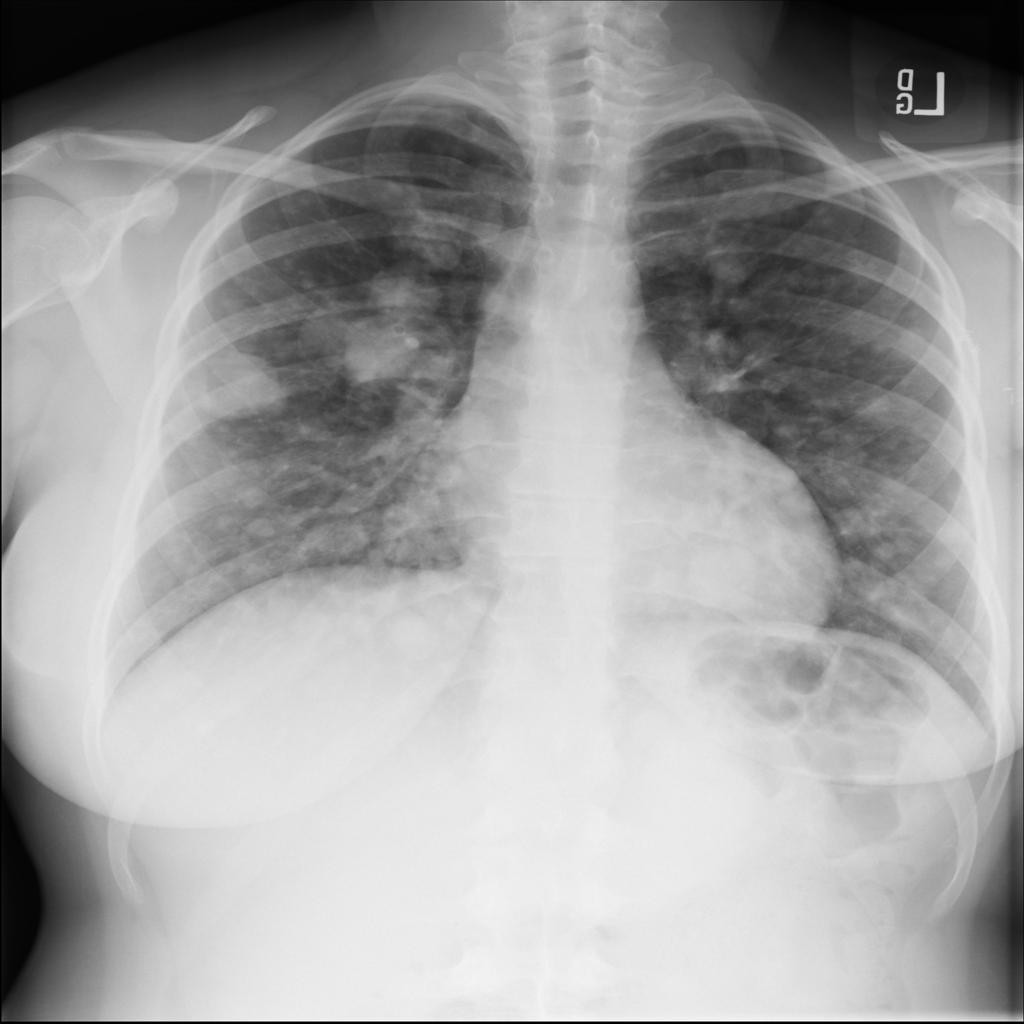nodule: (316, 292, 440, 398), (363, 576, 480, 682), (175, 338, 304, 428), (680, 539, 765, 614), (302, 505, 383, 573), (358, 249, 441, 313), (688, 229, 771, 290), (233, 498, 291, 543), (920, 527, 972, 576)
